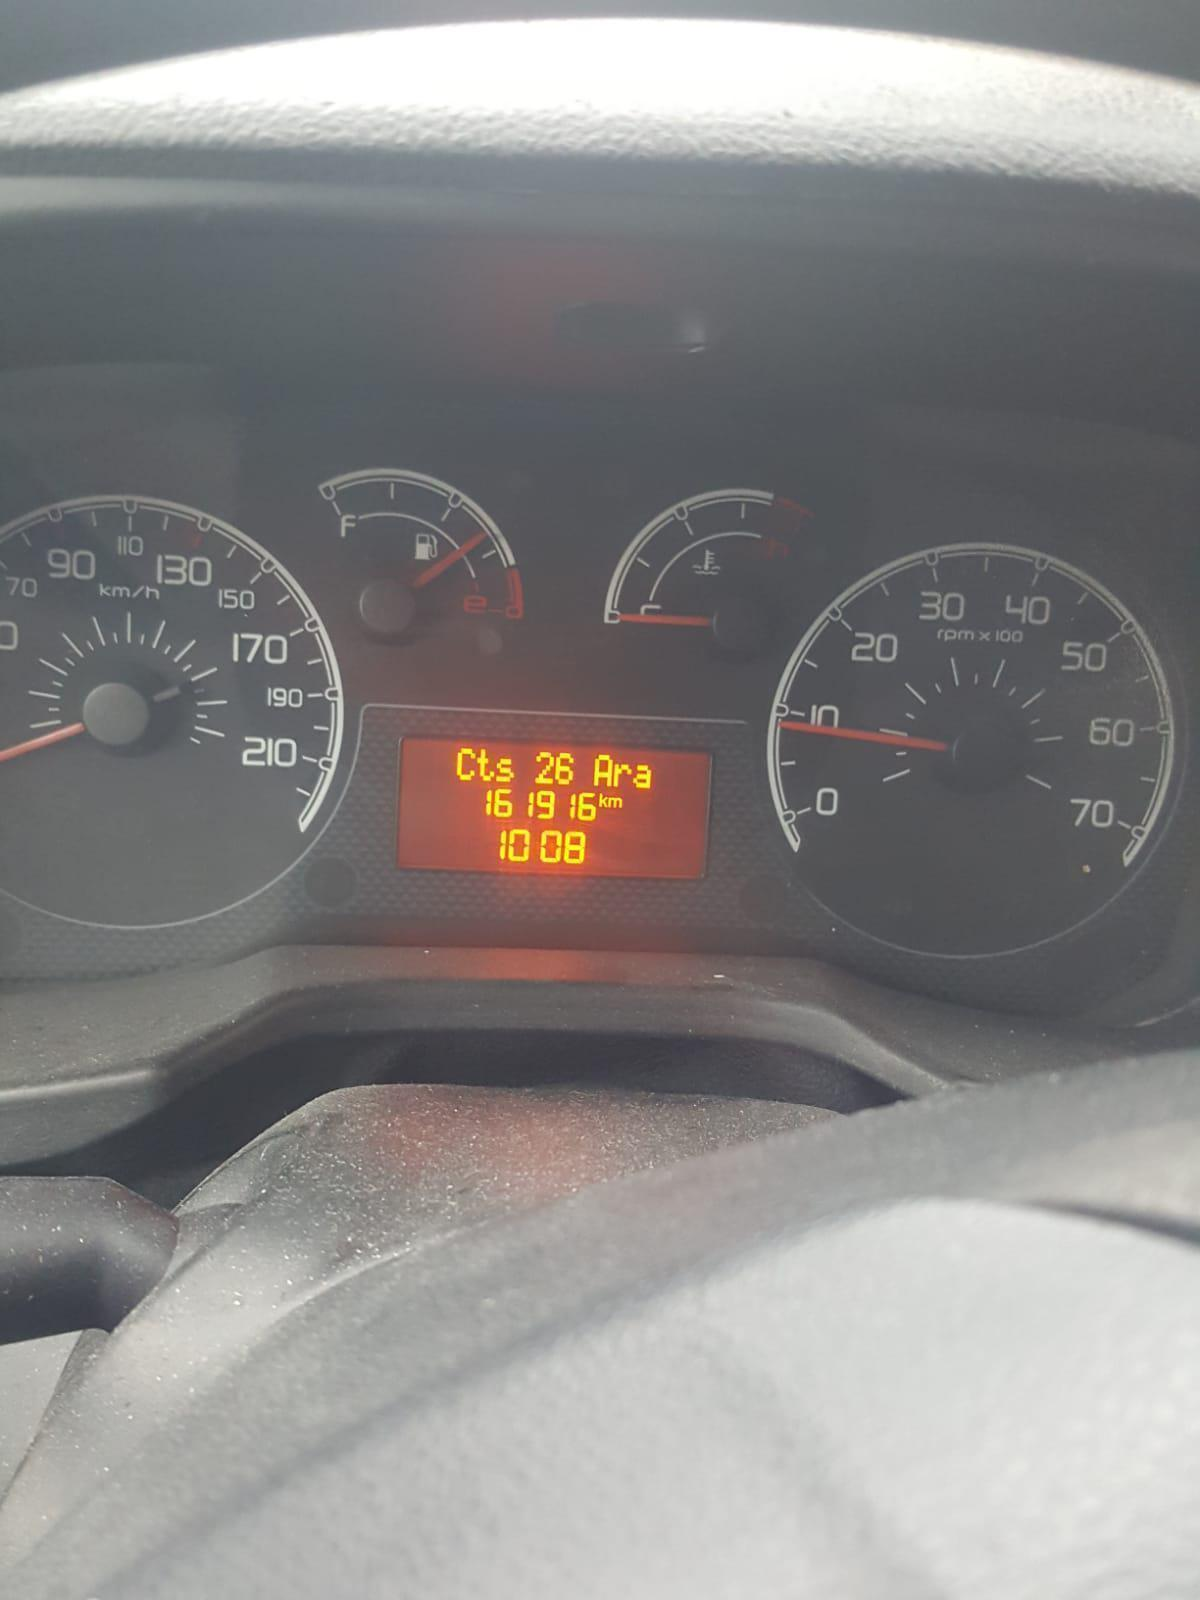0: (507, 826, 529, 862), (538, 830, 561, 863)
1: (484, 786, 492, 816), (499, 826, 505, 862), (527, 790, 534, 818), (568, 792, 576, 819)
2: (534, 750, 553, 784)
6: (555, 750, 574, 785), (494, 787, 513, 818), (579, 792, 596, 821)
8: (563, 830, 585, 863)
9: (537, 787, 555, 819)
X: (455, 747, 475, 782), (592, 753, 613, 787), (476, 747, 494, 782), (495, 753, 513, 784), (632, 763, 652, 789), (613, 761, 632, 787), (608, 795, 621, 808), (597, 792, 608, 808)
odometer: (393, 733, 715, 883)
